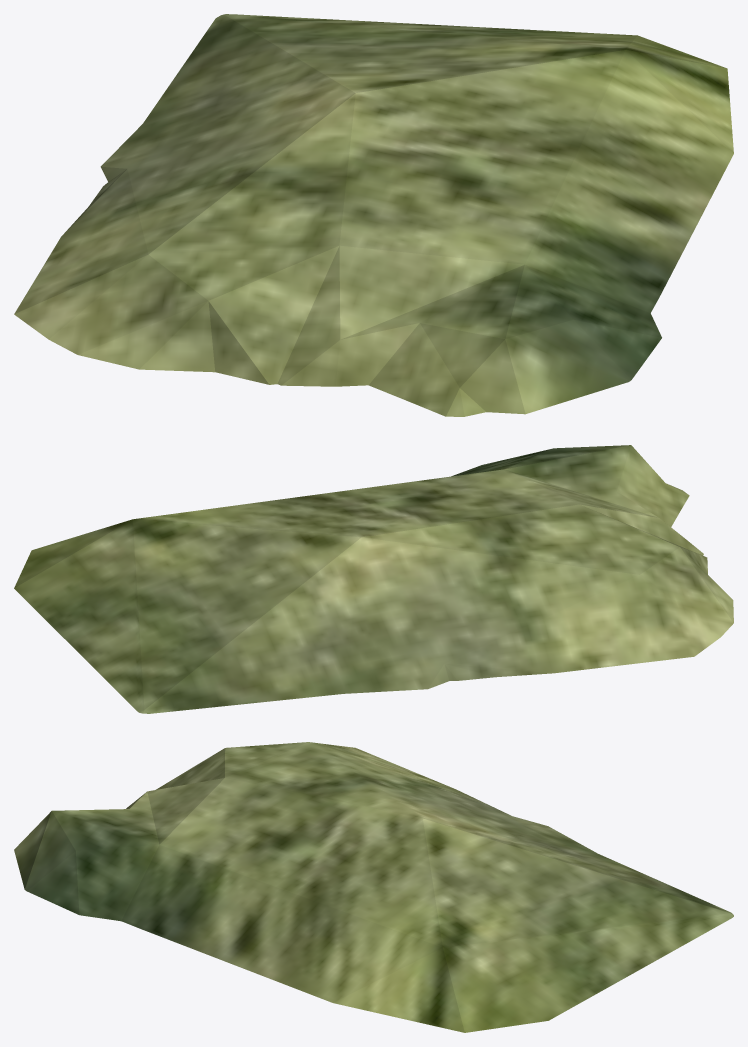
3 views of the same model, one above another, from view 1: azimuth 30°, elevation 25°; view 2: azimuth 150°, elevation 25°; view 3: azimuth 270°, elevation 25° (orthographic). The views are drawn at different scales.
Size of the model in its own units: 5.24 by 0.5967 by 5.6.
1 material, 1 textured.
